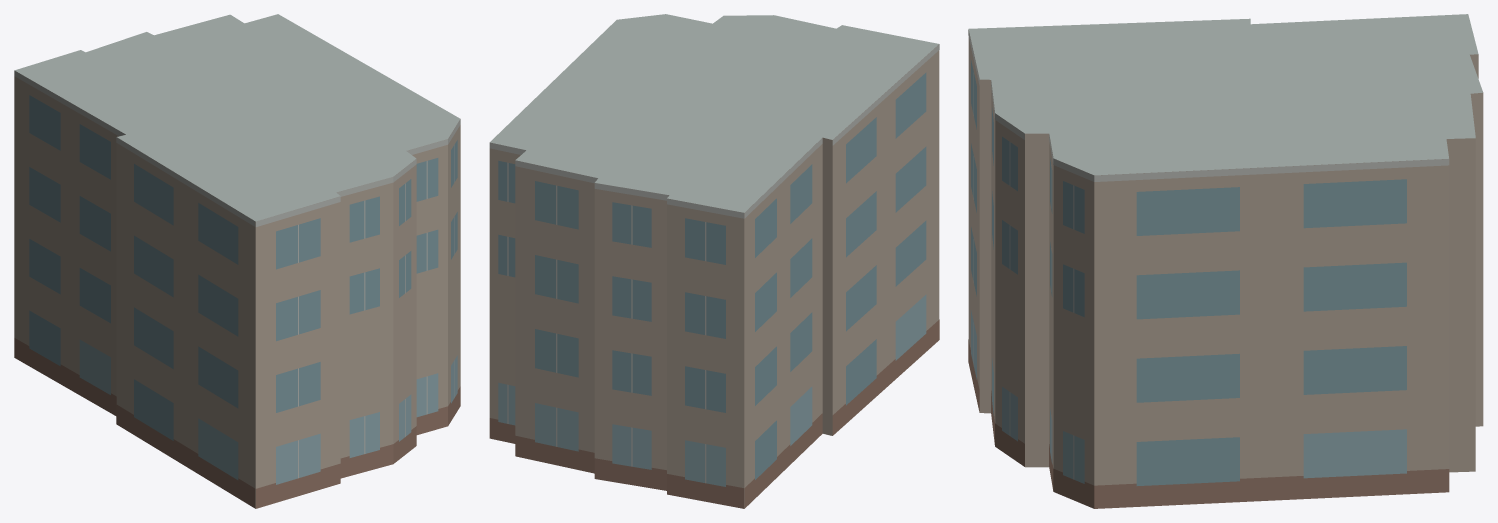
Rendered from survey-upis-32605038.glb.
3 views of the same model, side by side, from view 1: azimuth 30°, elevation 25°; view 2: azimuth 150°, elevation 25°; view 3: azimuth 270°, elevation 25° (orthographic). The views are drawn at different scales.
Visible parts, largest first — view 1: survey-upis-32605038.tmp; view 2: survey-upis-32605038.tmp; view 3: survey-upis-32605038.tmp.
Boxes of the visible parts, x1,y1,x2,y2 form: survey-upis-32605038.tmp: [14, 14, 460, 508]; survey-upis-32605038.tmp: [489, 14, 939, 508]; survey-upis-32605038.tmp: [968, 14, 1483, 508].
Size of the model in its own units: 12.68 by 12.2 by 17.08.
